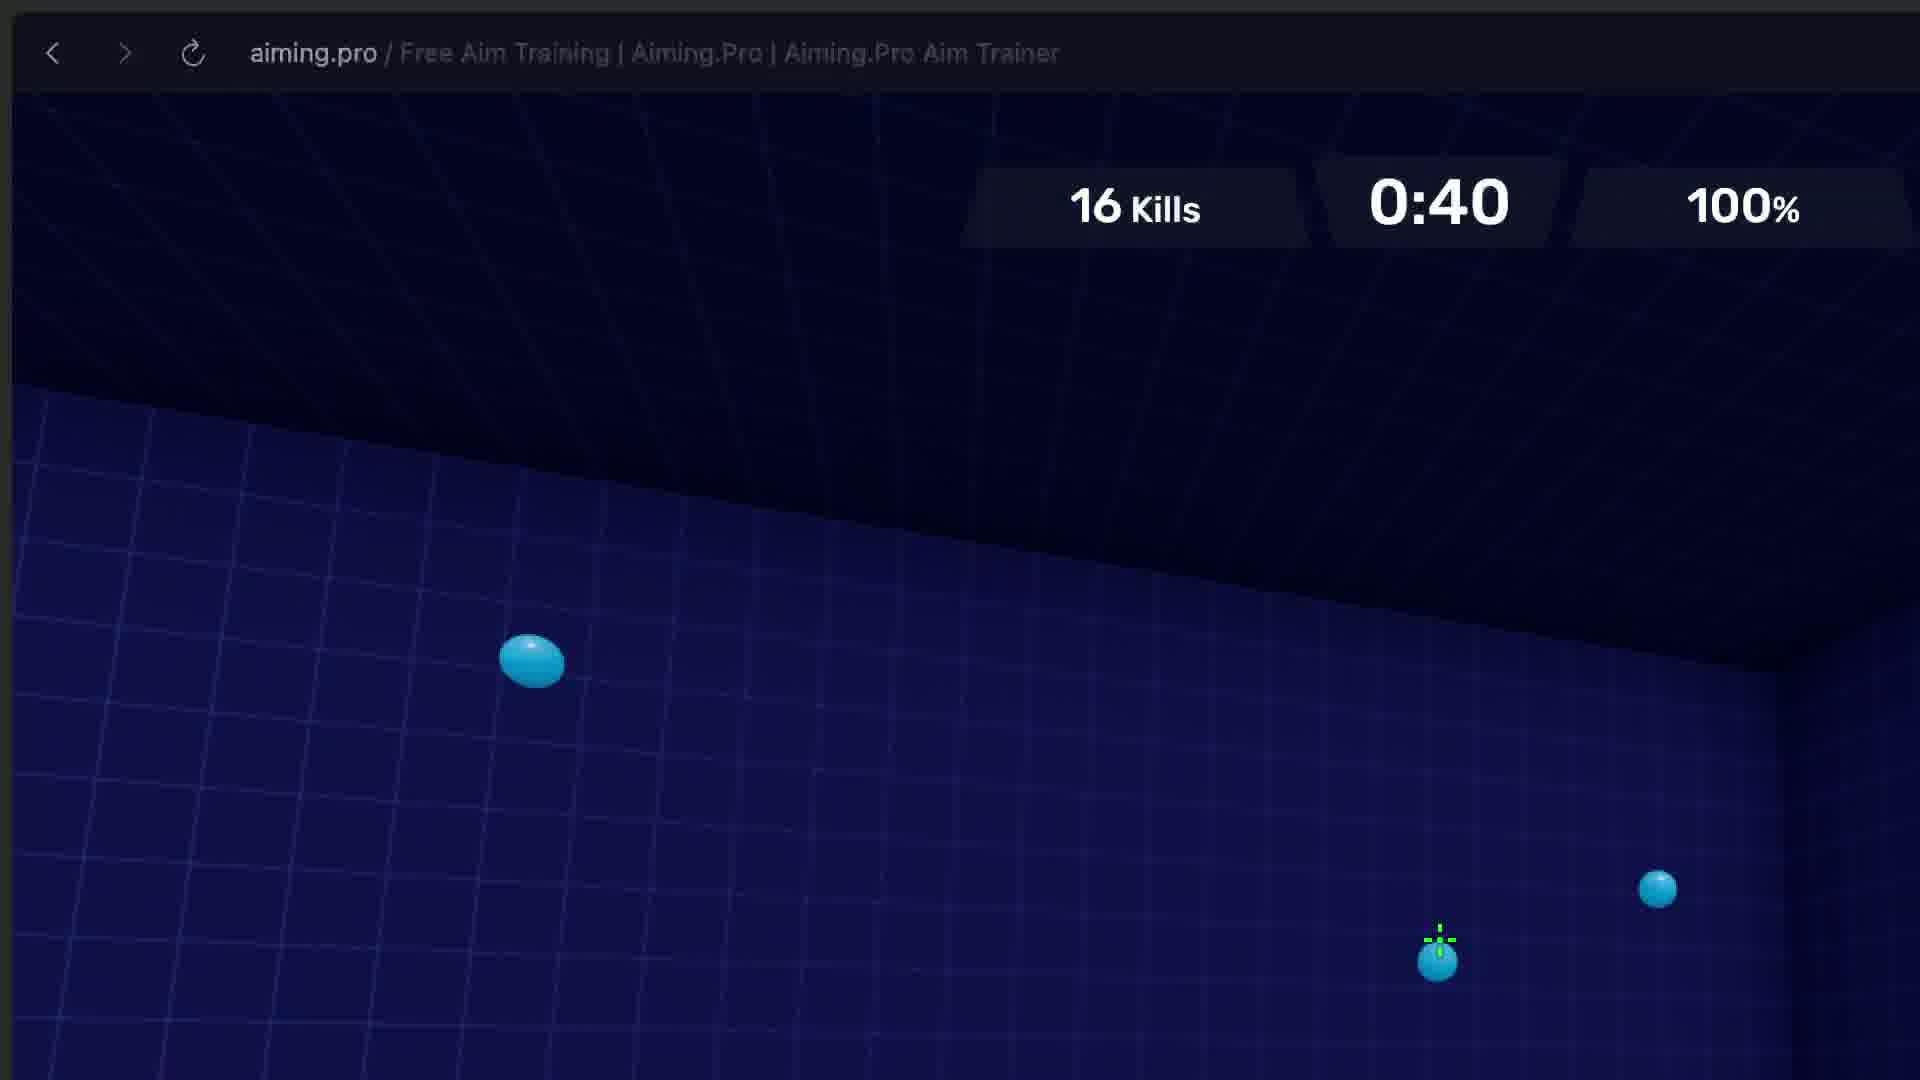target: (498, 634, 564, 688), (1418, 923, 1457, 982), (1636, 869, 1677, 909)
